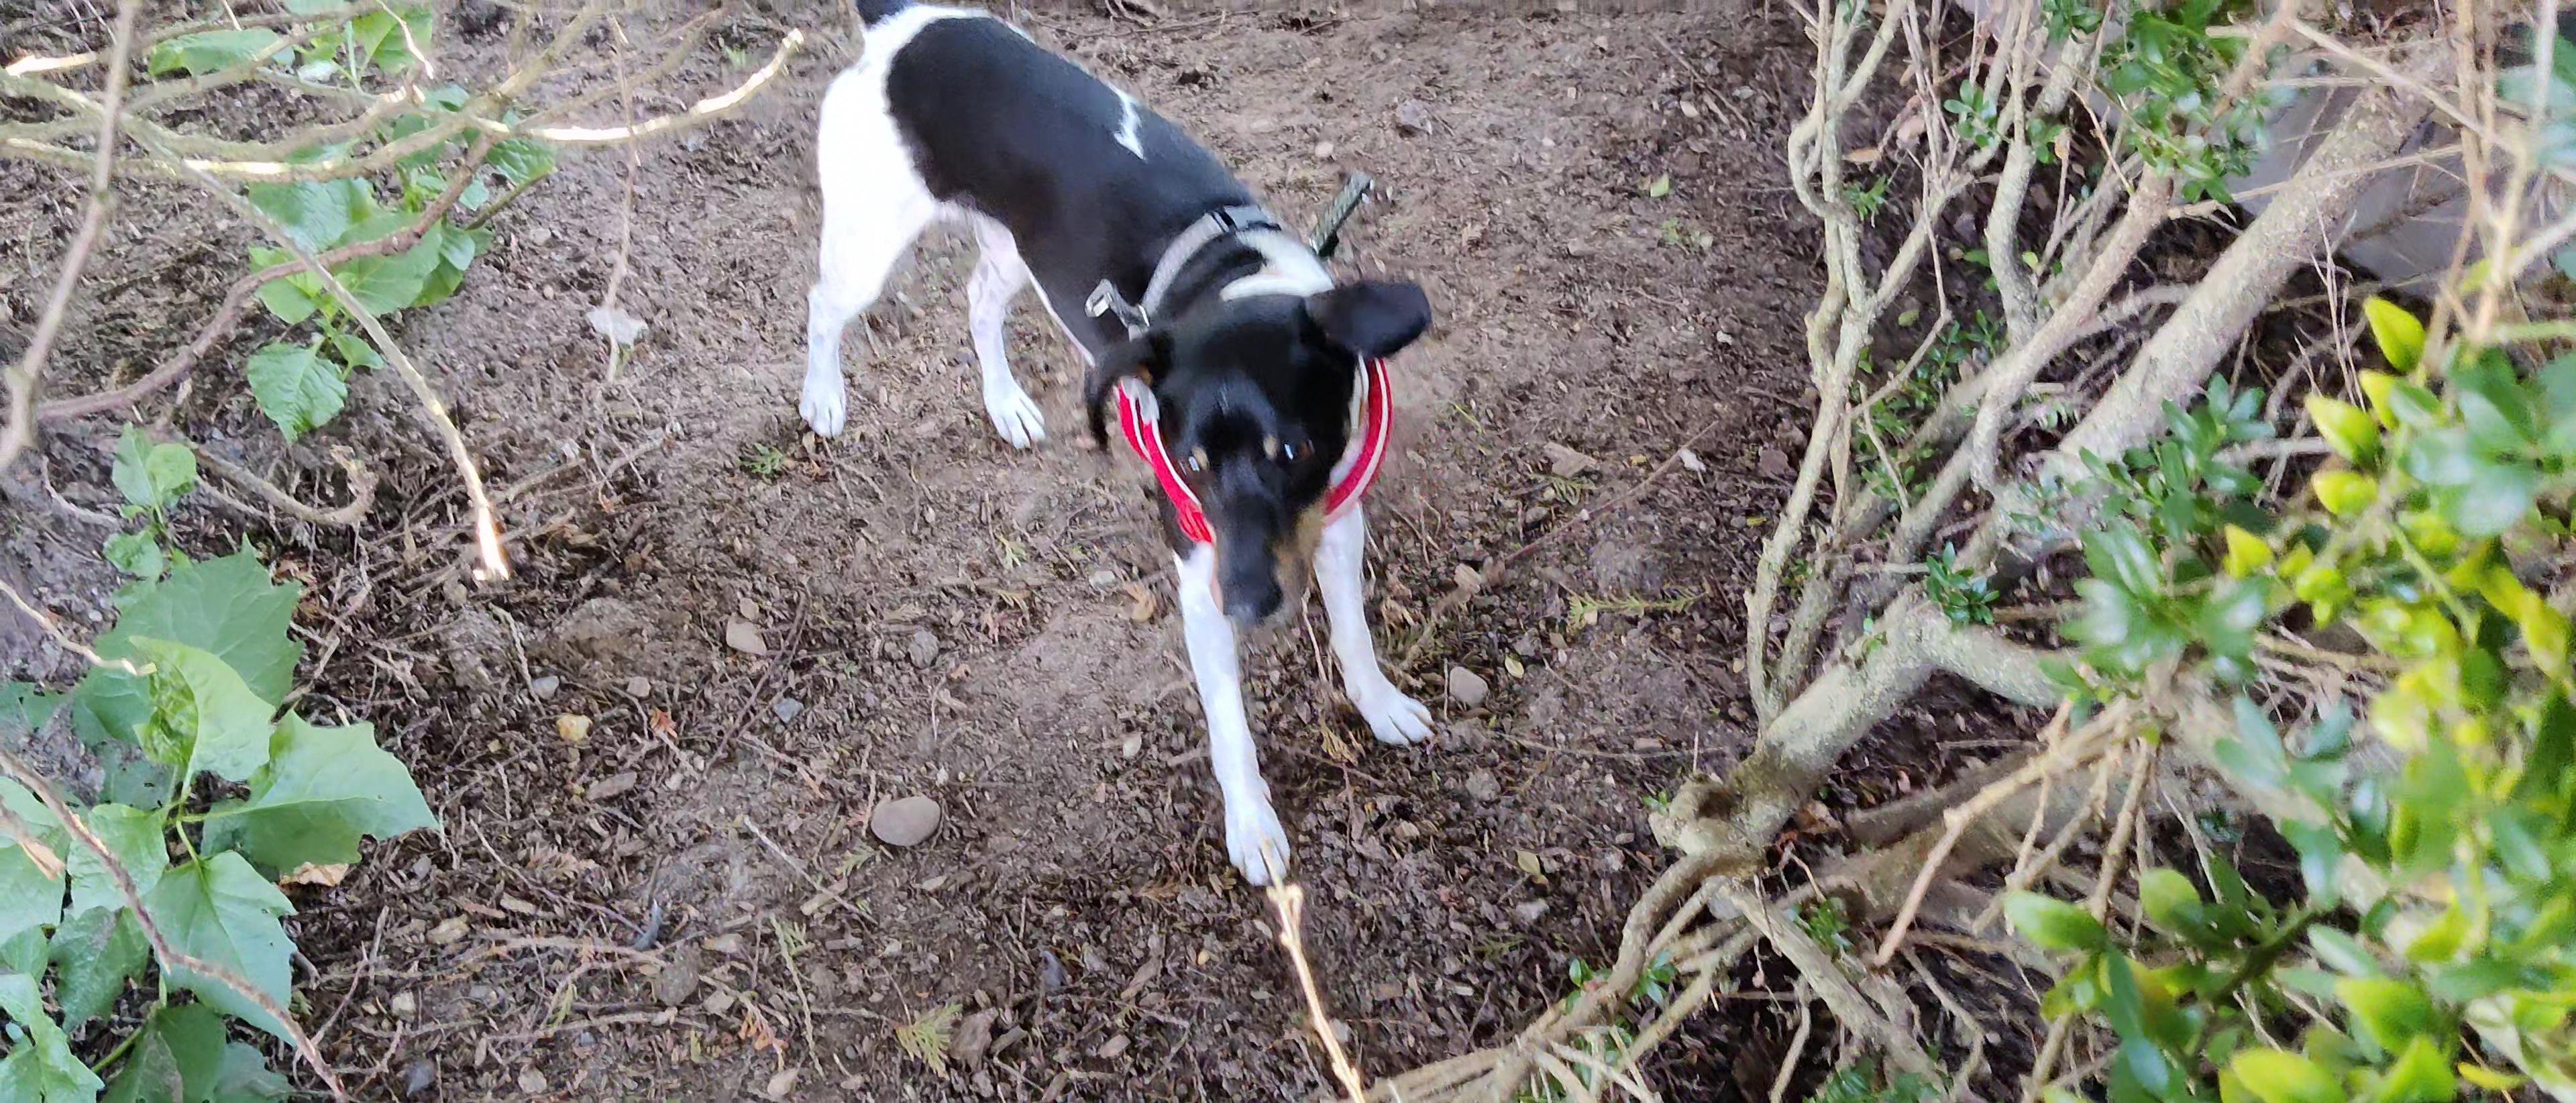Dog: (780, 0, 1451, 902)
